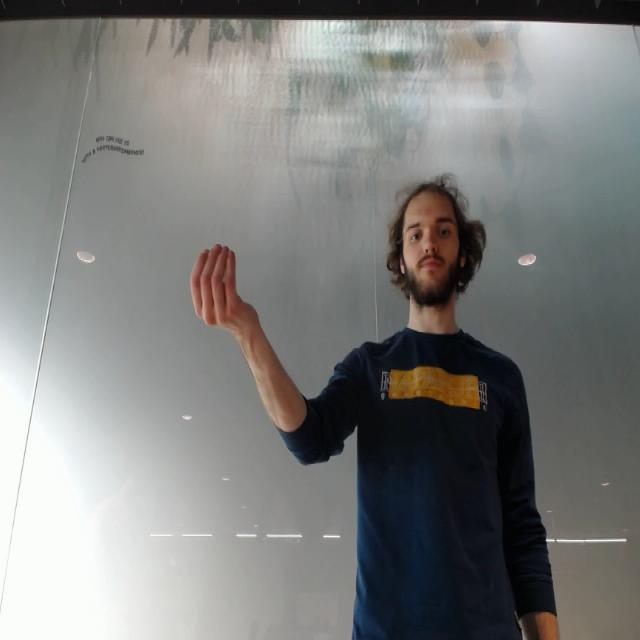forward: (185, 239, 259, 351)
